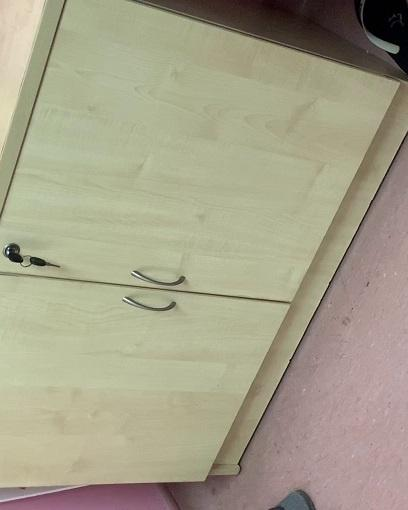cabinet_door: (19, 47, 340, 300), (0, 288, 262, 478)
handle: (121, 293, 178, 319), (128, 267, 191, 288)
